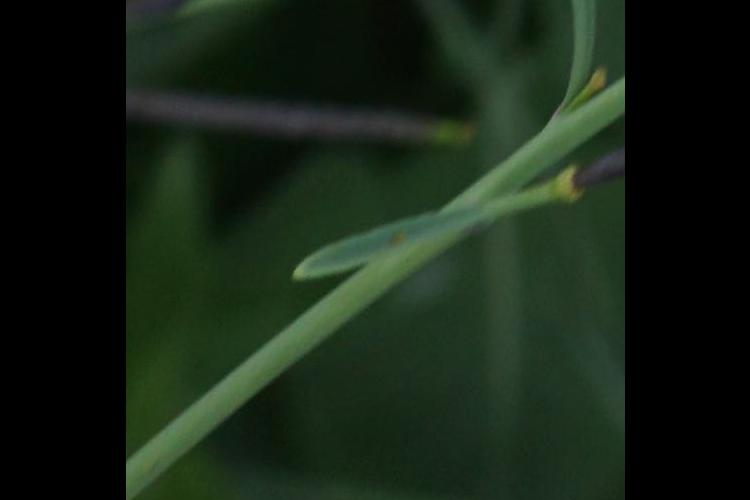pod: (131, 80, 484, 153), (497, 142, 609, 232), (137, 1, 305, 33)
